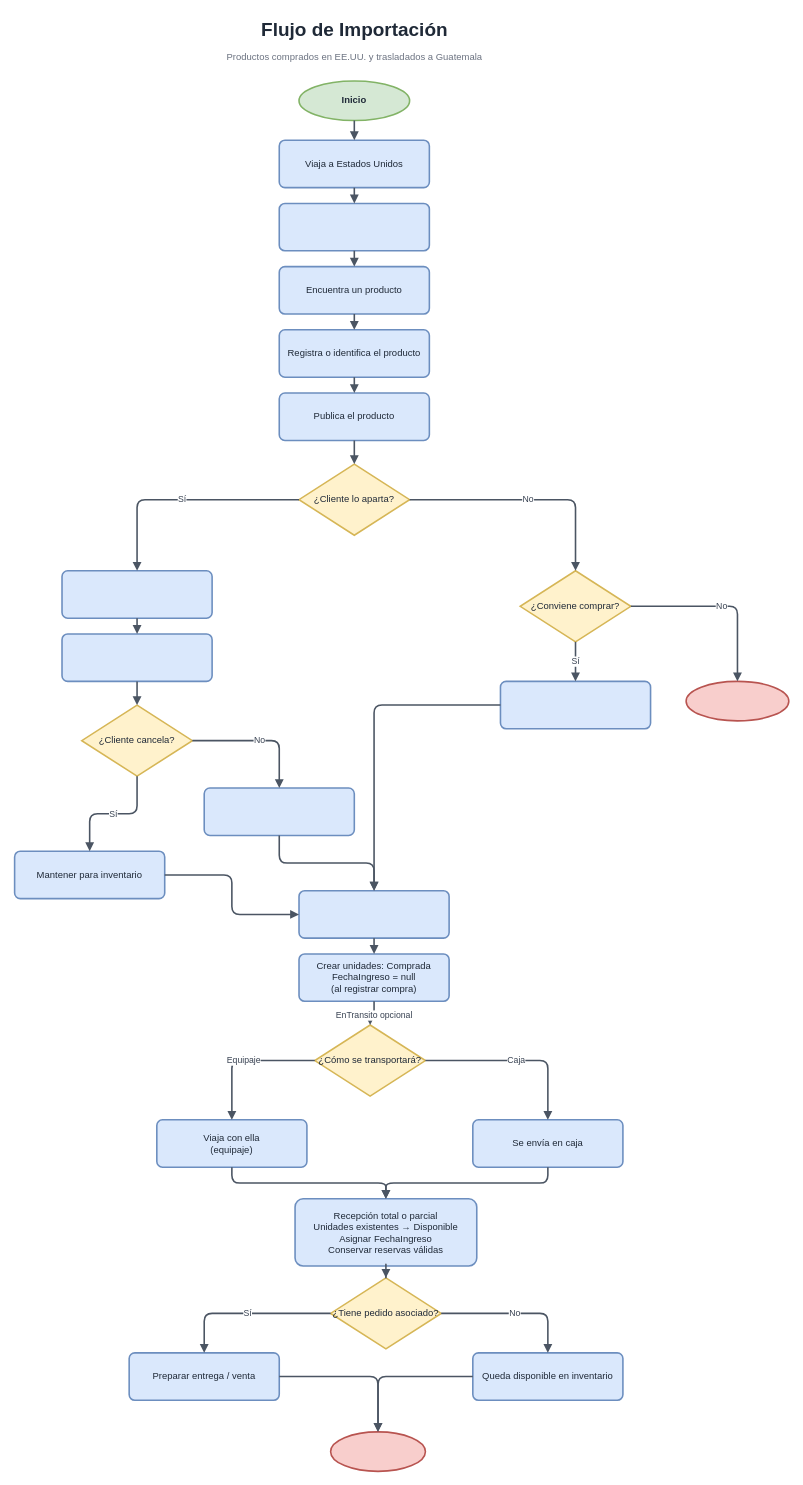
Some shapes in this 803 by 1485 pixel diagram are drawn without their labels. The centre of each missing label's shape, as x and y in pixels:
"Compra para ese cliente" goes at (137,657).
"Compra para inventario" goes at (575,704).
"Continuar con pedido" goes at (279,811).
"Crear pedido de importación" goes at (137,594).
"Fin" goes at (377,1451).
"No comprar" goes at (737,700).
"Registrar compra Origen: Importación" goes at (374,914).
"Visita Ross / Burlington / Outlets" goes at (354,226).
